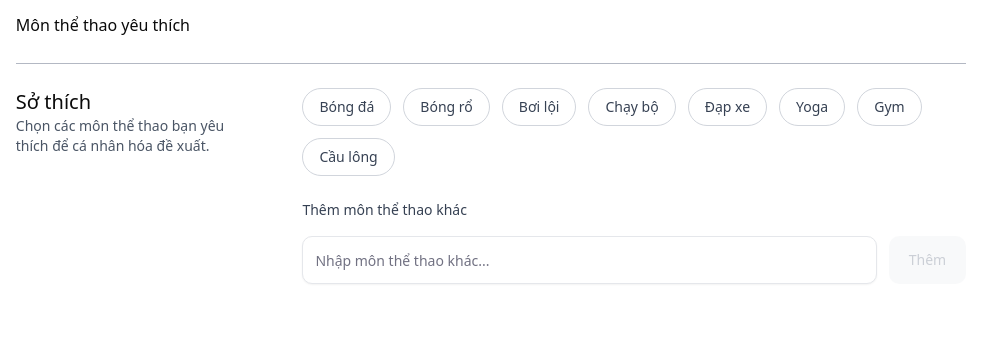
SportsSection Component › allows adding custom sports
Type "Bóng chuyền" into the field with placeholder "Nhập môn thể thao khác..." at coordinates (590, 260), box [302,236,877,284]
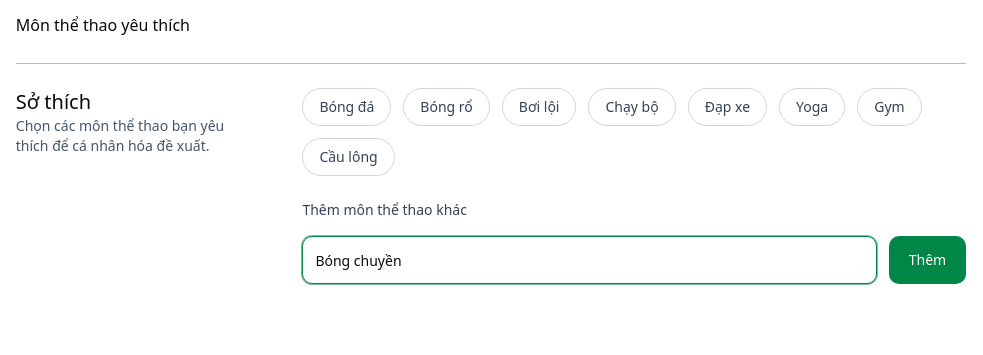
Click the button "Thêm" at coordinates (928, 260), box [889,236,966,284]
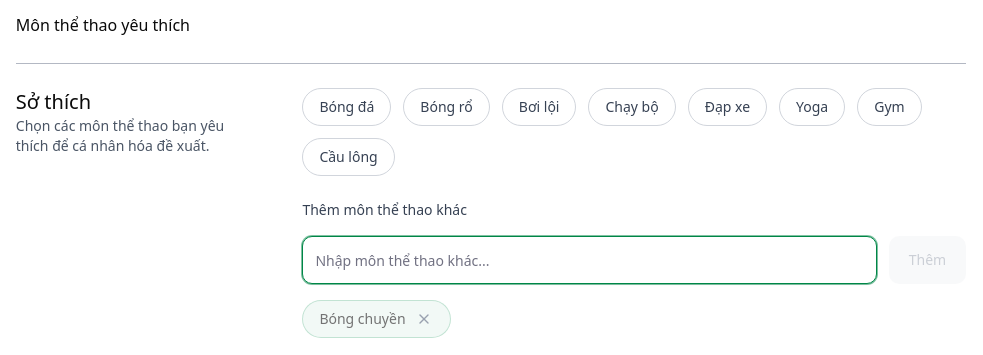
Expected: the text "Bóng chuyền" is shown, [302,300,451,338]
